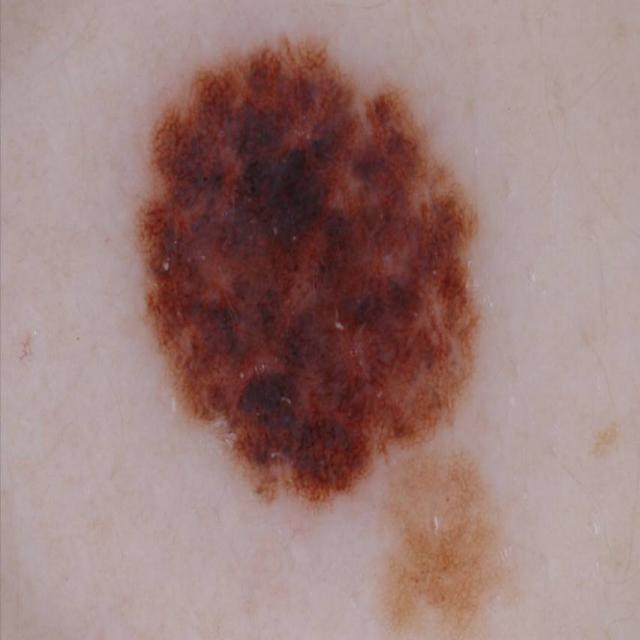Benign: (107, 30, 491, 521)
